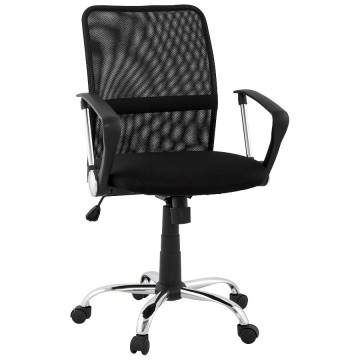chairs: (61, 5, 292, 354)
